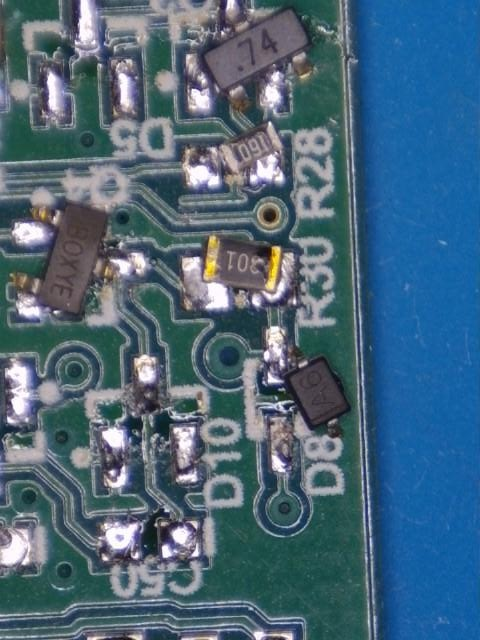pcb_defect: (12, 200, 145, 317), (187, 0, 315, 113), (266, 328, 351, 438), (182, 234, 297, 310), (184, 118, 285, 186)
